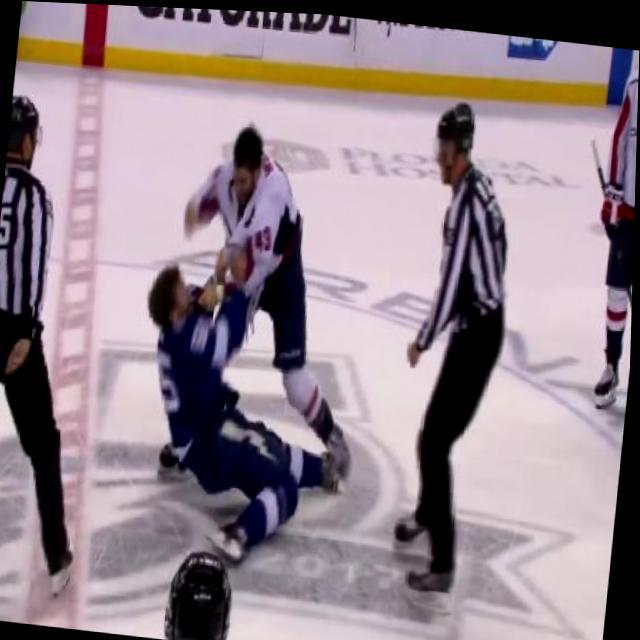fight: (120, 108, 386, 567)
